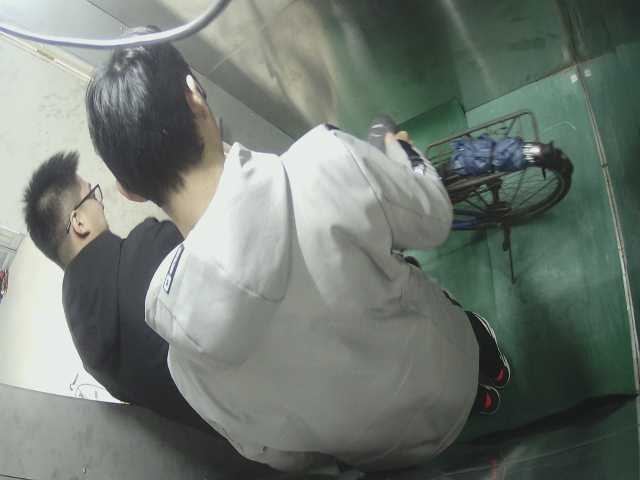bicycle: (359, 110, 579, 291)
person: (85, 26, 518, 465), (23, 148, 241, 448)
